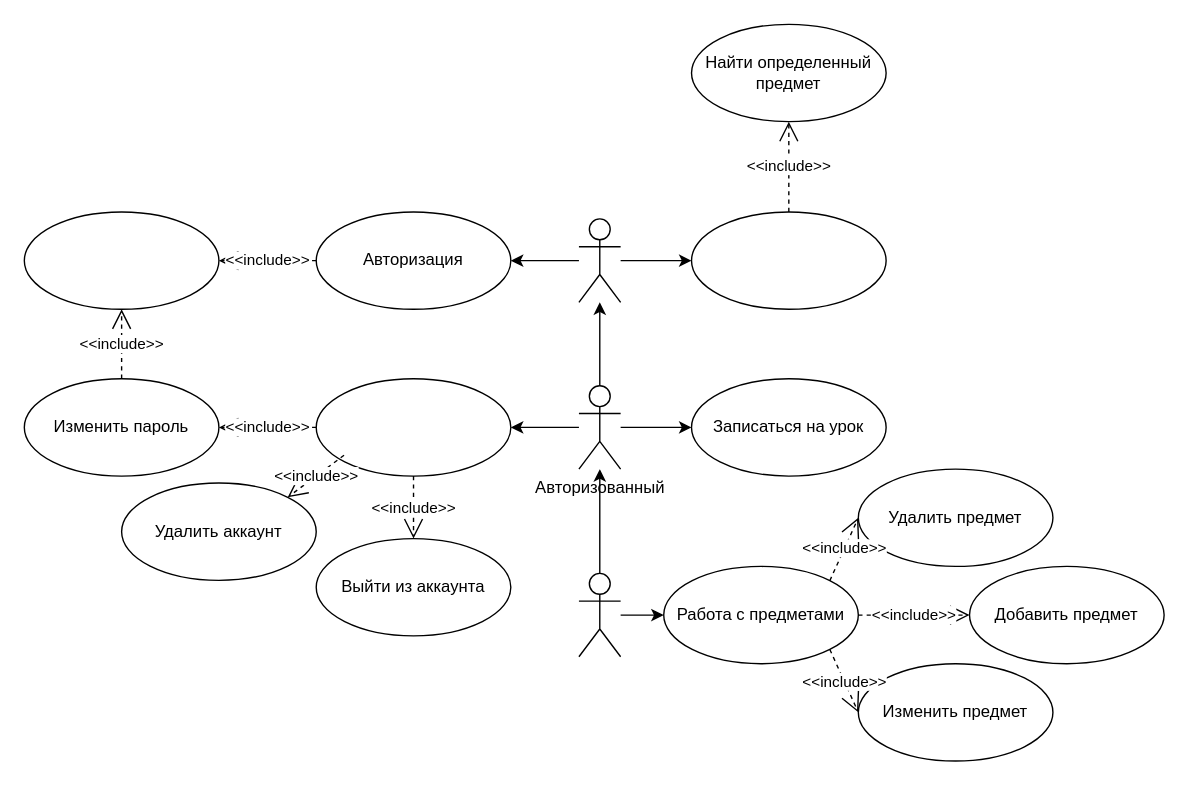
Image size: 1188x785. Some labels were removed from this diagram. Here are the shapes that lost their labels. From the top down, the box of each, then its label:
(23, 211, 219, 309): Подтверждение номера телефона
(578, 218, 621, 302): Гость
(690, 211, 886, 309): Просмотреть список предметов
(315, 377, 511, 476): Редактировать профиль
(578, 572, 621, 657): Аптекарь
